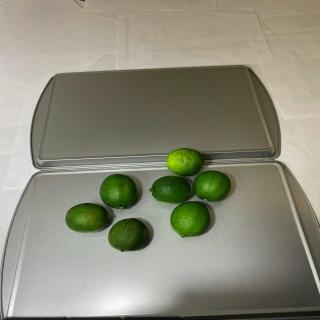Lemon: (170, 201, 211, 238), (99, 173, 137, 210), (108, 218, 148, 252), (65, 203, 110, 233), (192, 170, 232, 202), (149, 175, 191, 204), (166, 148, 204, 176)
